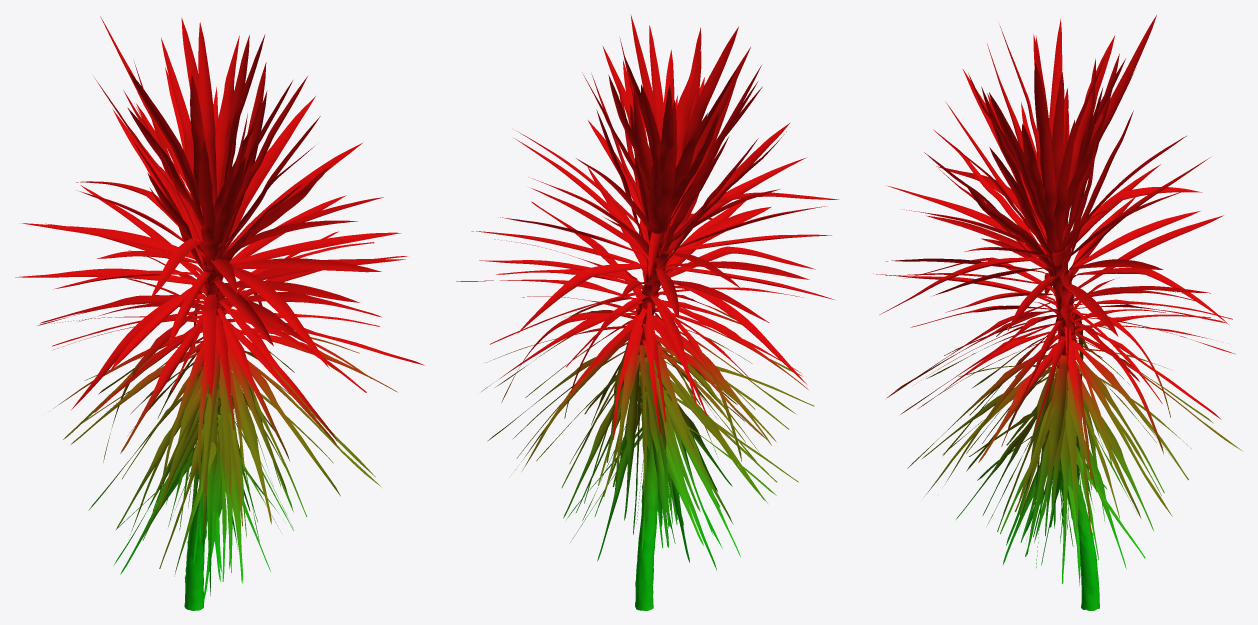
Rendered from Var4_LOD0.fbx.
3 renders of one model, left to right at view 1: azimuth 30°, elevation 25°; view 2: azimuth 150°, elevation 25°; view 3: azimuth 270°, elevation 25°, orthographic. The views are drawn at different scales.
Visible parts, largest first — view 1: _nyxm_Var4_LOD0; view 2: _nyxm_Var4_LOD0; view 3: _nyxm_Var4_LOD0.
Part boxes in pixels (x1,y1,x2,y2): _nyxm_Var4_LOD0: [15, 16, 424, 610]; _nyxm_Var4_LOD0: [456, 14, 838, 610]; _nyxm_Var4_LOD0: [873, 15, 1241, 610].
Size of the model in its own units: 87.23 by 148 by 88.71.
